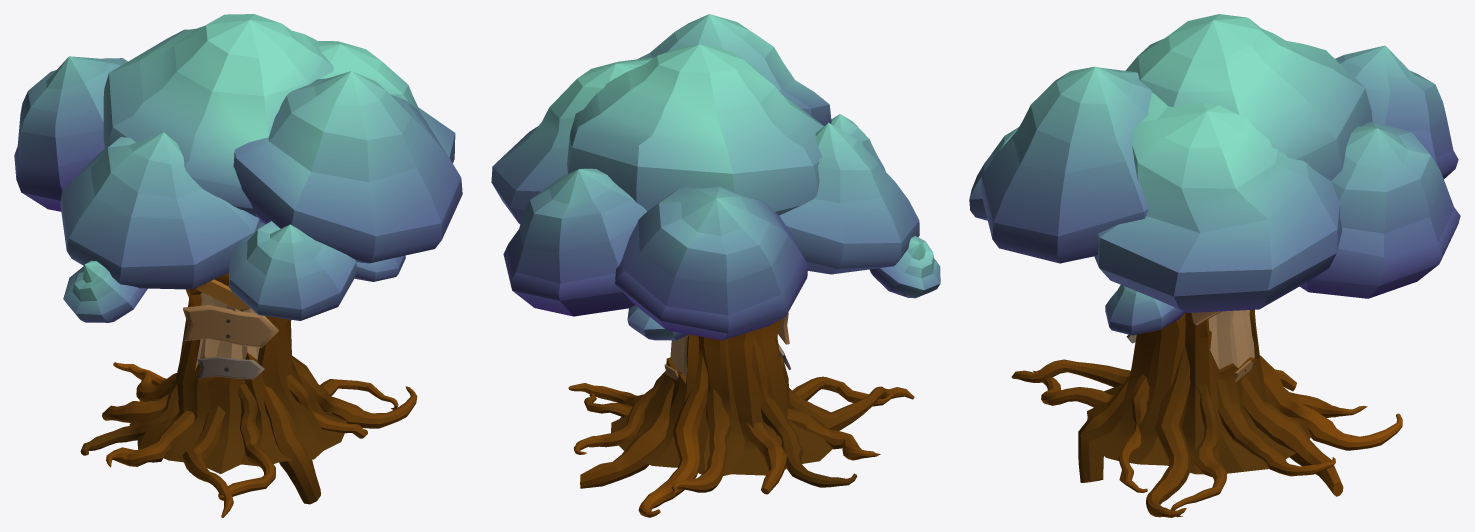
Rendered from MMBigTree.fbx.
The picture shows the model from 3 angles, left to right: view 1: azimuth 30°, elevation 25°; view 2: azimuth 150°, elevation 25°; view 3: azimuth 270°, elevation 25°; orthographic projection. The views are drawn at different scales.
Parts seen in each view (by area): view 1: polySurface55; view 2: polySurface55; view 3: polySurface55.
Part boxes in pixels (x1=…): polySurface55: x1=14, y1=14, x2=462, y2=517; polySurface55: x1=491, y1=14, x2=940, y2=517; polySurface55: x1=969, y1=14, x2=1460, y2=517.
Size of the model in its own units: 15.86 by 16.75 by 16.08.
